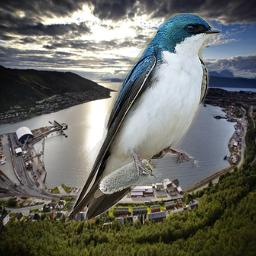Swallow: (65, 13, 222, 225)
